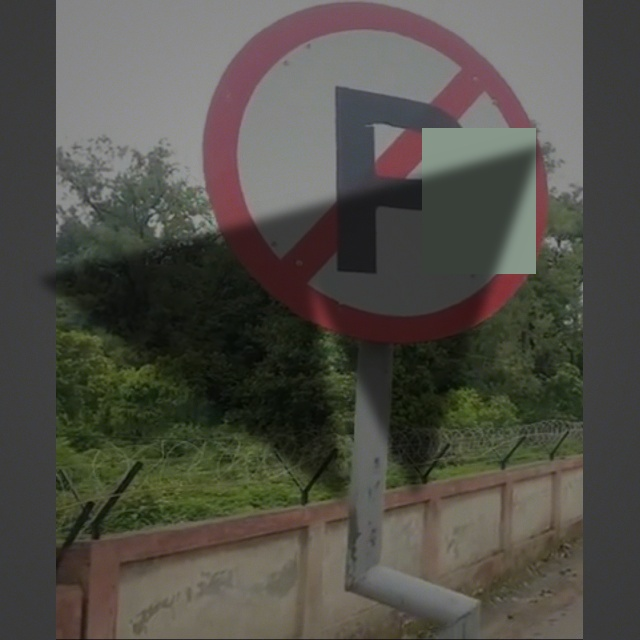No_Parking: (213, 8, 544, 336)
